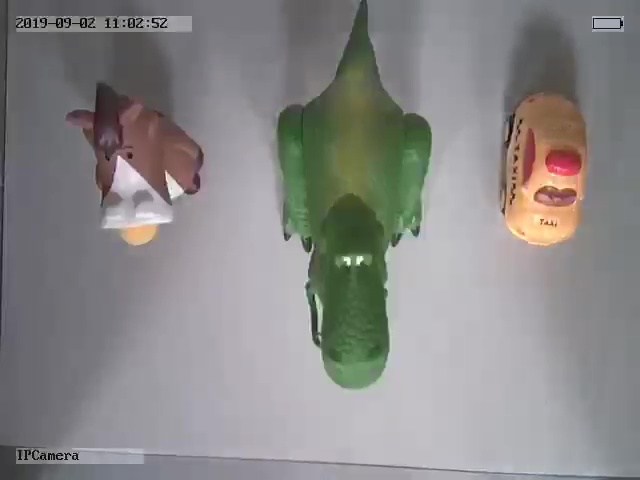car: (500, 89, 588, 247)
horse: (65, 82, 205, 246)
rex: (276, 4, 433, 390)
